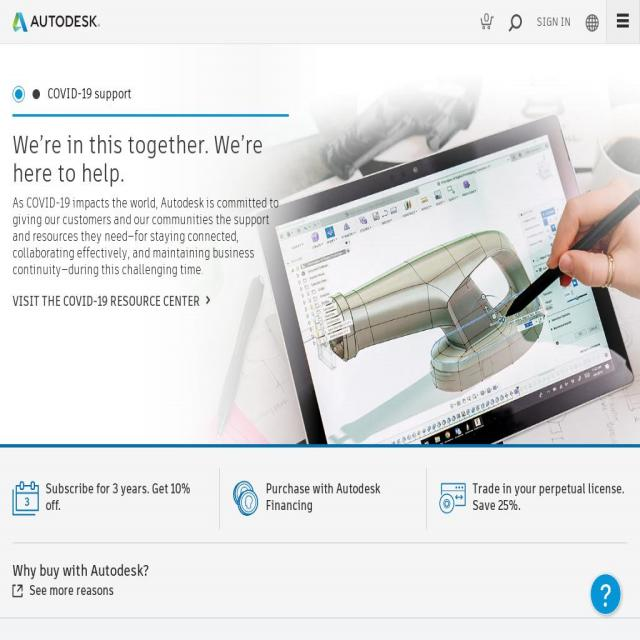language: (581, 8, 605, 37)
login-option: (534, 12, 576, 32)
navigation-blocks: (6, 438, 640, 550)
options: (611, 6, 635, 36)
search: (502, 8, 524, 38)
